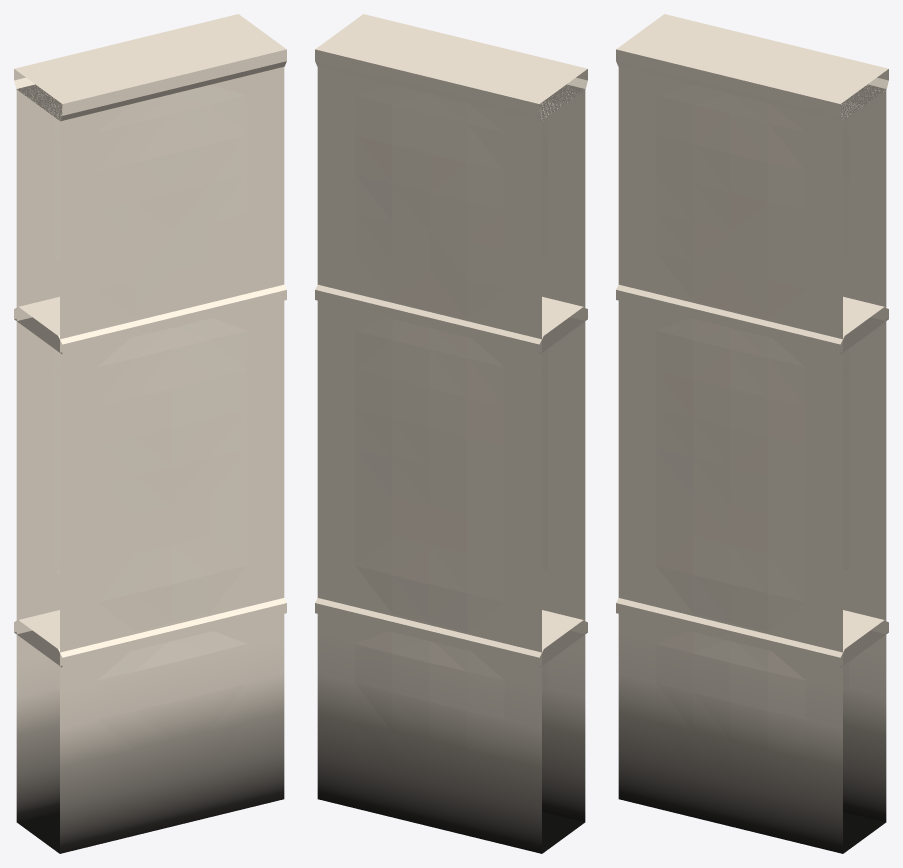
Rendered from SM_VKI_Wall_Ashlar_Plain_150A_Full.fbx.
The picture shows the model from 3 angles, left to right: view 1: azimuth 30°, elevation 25°; view 2: azimuth 150°, elevation 25°; view 3: azimuth 330°, elevation 25°; orthographic projection.
Parts seen in each view (by area): view 1: SM_VKI_Wall_Ashlar_Plain_150A_Full.001; view 2: SM_VKI_Wall_Ashlar_Plain_150A_Full.001; view 3: SM_VKI_Wall_Ashlar_Plain_150A_Full.001.
Part boxes in pixels (x1=…): SM_VKI_Wall_Ashlar_Plain_150A_Full.001: x1=14, y1=14, x2=286, y2=853; SM_VKI_Wall_Ashlar_Plain_150A_Full.001: x1=315, y1=14, x2=587, y2=853; SM_VKI_Wall_Ashlar_Plain_150A_Full.001: x1=616, y1=14, x2=888, y2=853.
Size of the model in its own units: 1.5 by 4.8 by 0.56.
